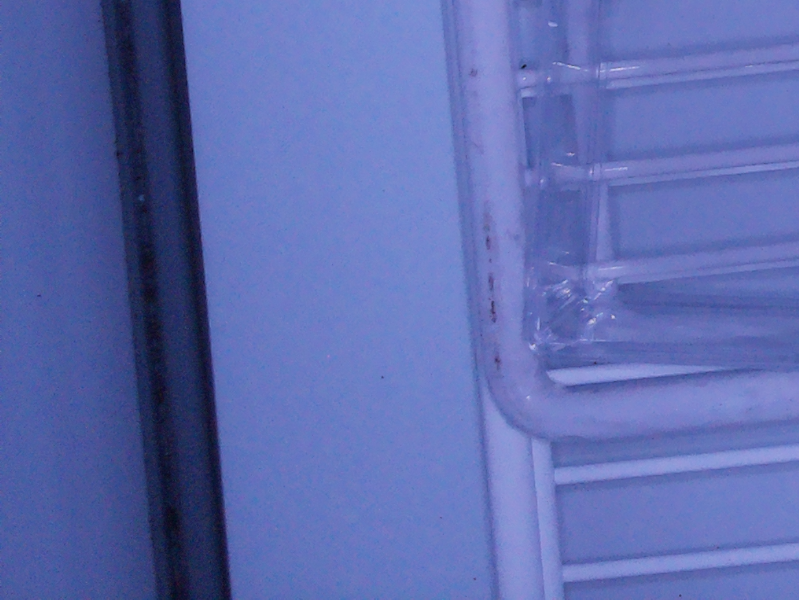plate: (518, 1, 799, 359)
